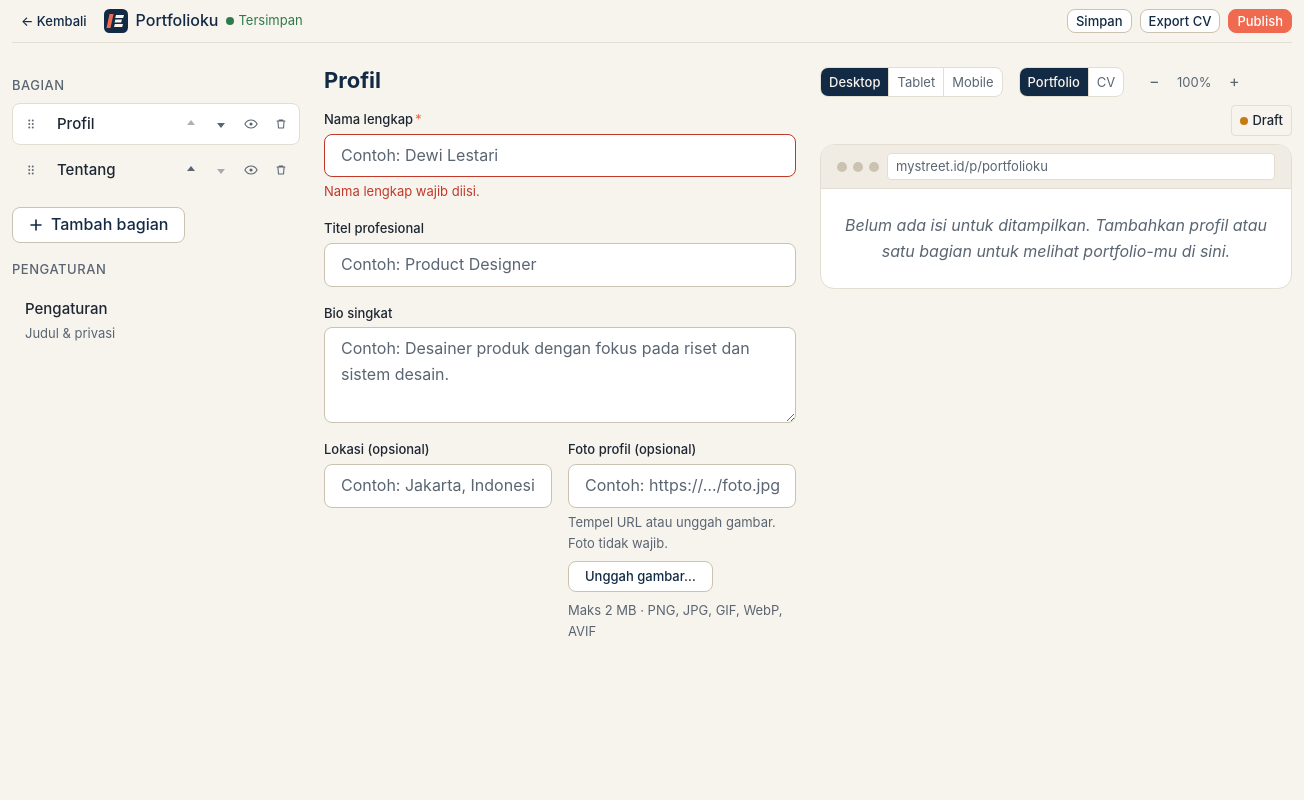
PortfolioEditor › preserves unsaved input when switching sections
Type "Budi" into the field labelled "Nama lengkap*".
click(560, 156); type("Budi")  # box [324,134,796,177]
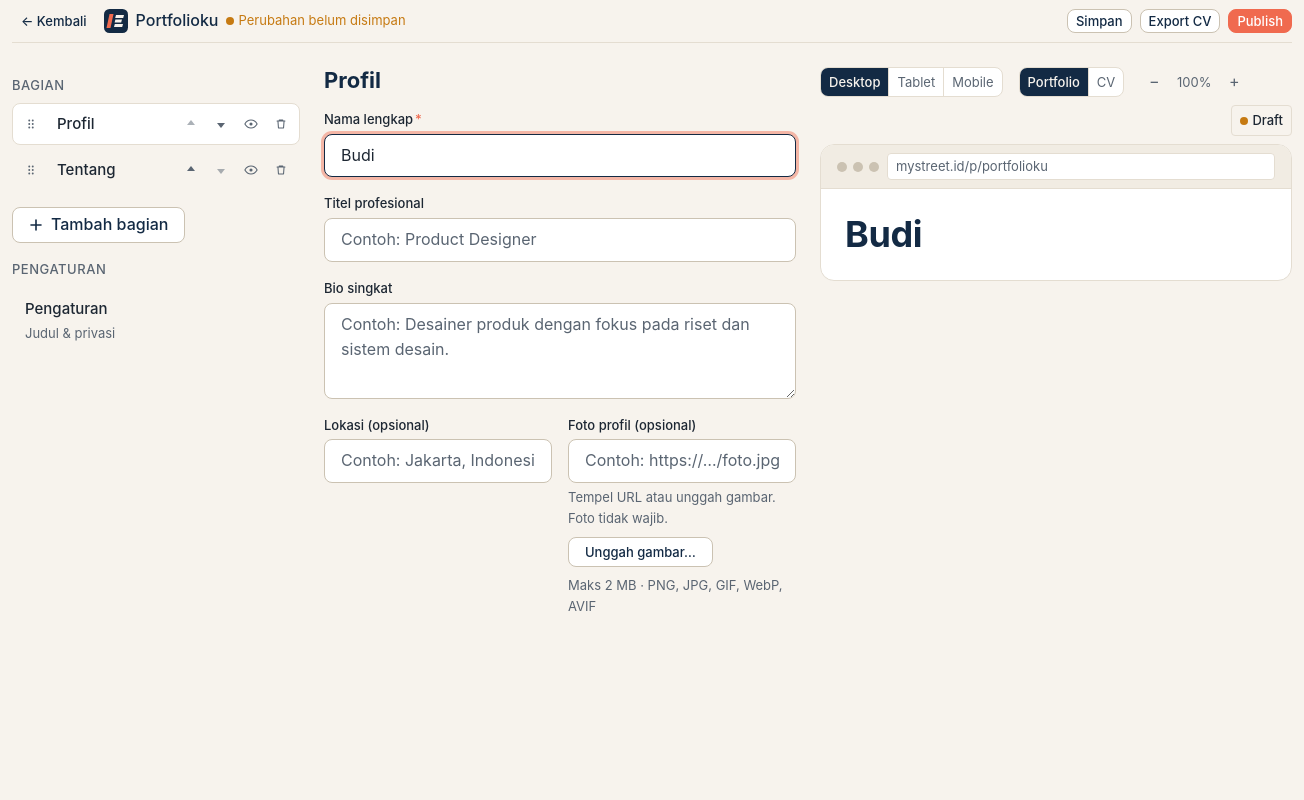
Switch to the About section, then back to Profile.
Click the button with aria-label "Buka bagian Tentang".
click(111, 170)  # box [49,154,173,186]
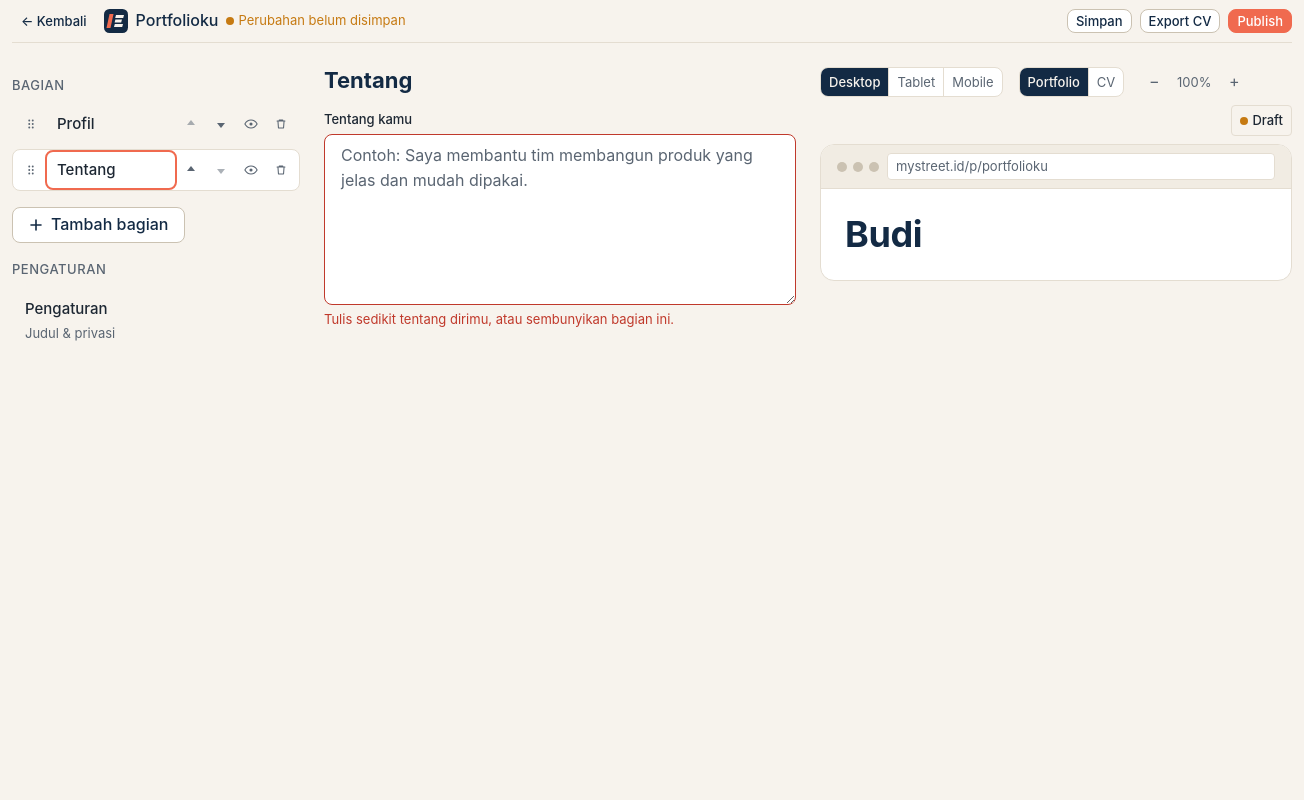
Expected: the text box labelled "Tentang kamu" is shown, [324,134,796,305]
Click the button with aria-label "Buka bagian Profil".
click(111, 124)  # box [49,108,173,140]
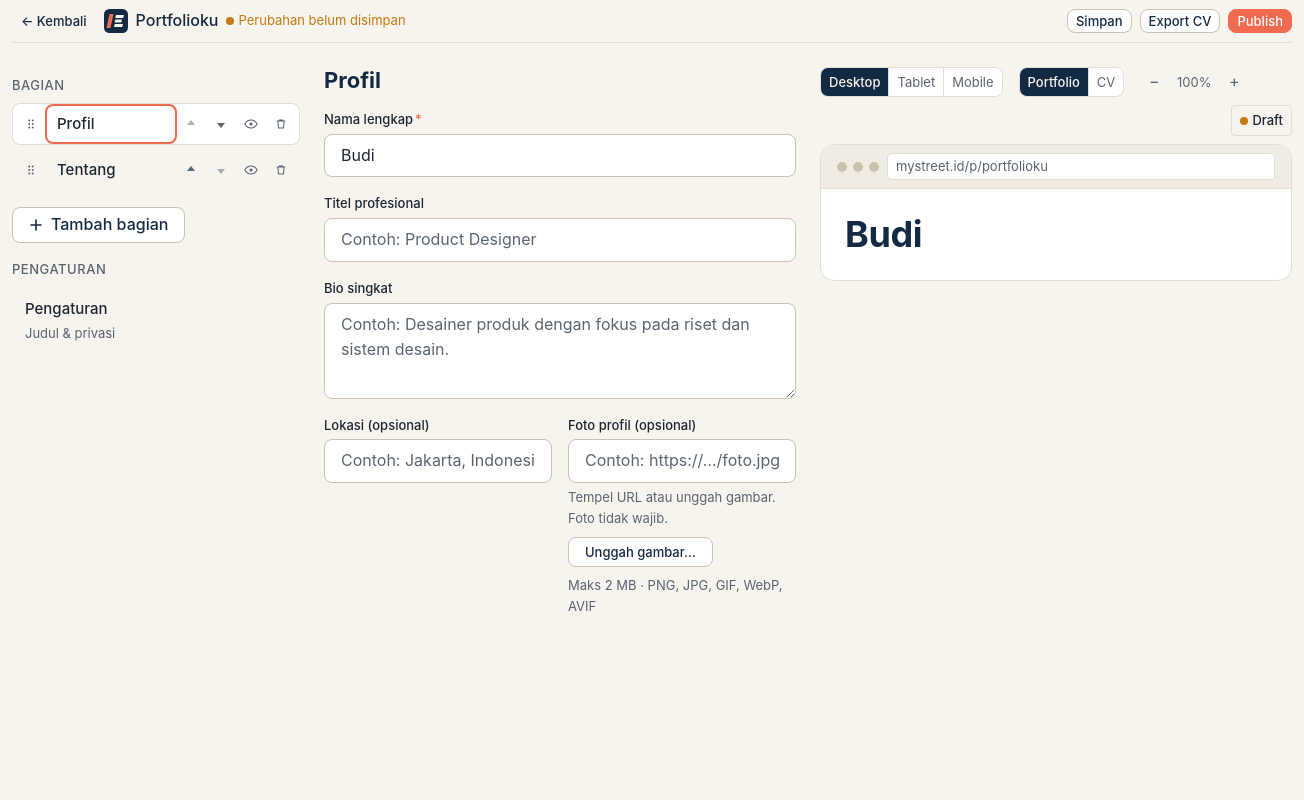
Result: the field labelled "Nama lengkap*" holds "Budi" at [324,134,796,177]
